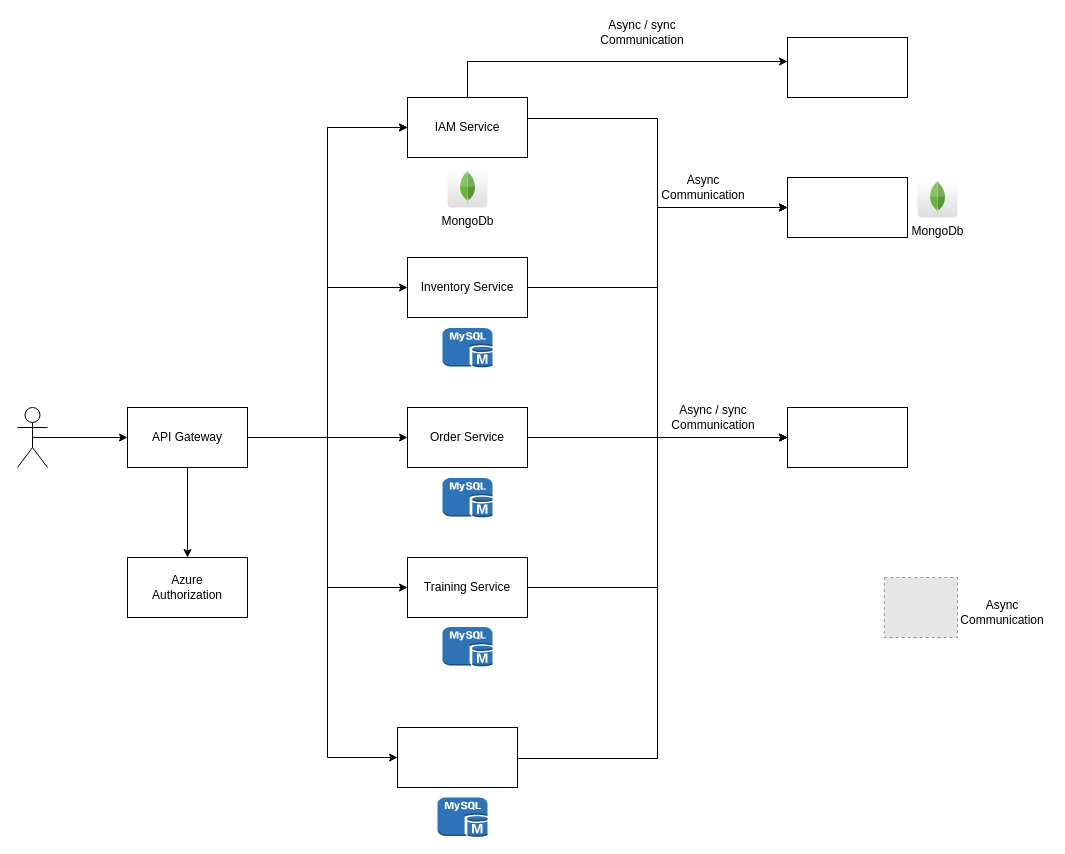
This 1065x854 diagram has some shape labels left out. Grey dashed boxes stand in for pictures. The shapes that lost their labels are listed below. From the top down, each one's box as (x1, y1, x2, y2) in pixels, then its label:
(786, 36, 908, 98): Azure Graph API User Provisioning
(786, 176, 908, 238): Notification Service
(16, 406, 48, 468): Actor
(786, 406, 908, 468): CAE Existing APIs
(396, 726, 518, 788): Document Service
